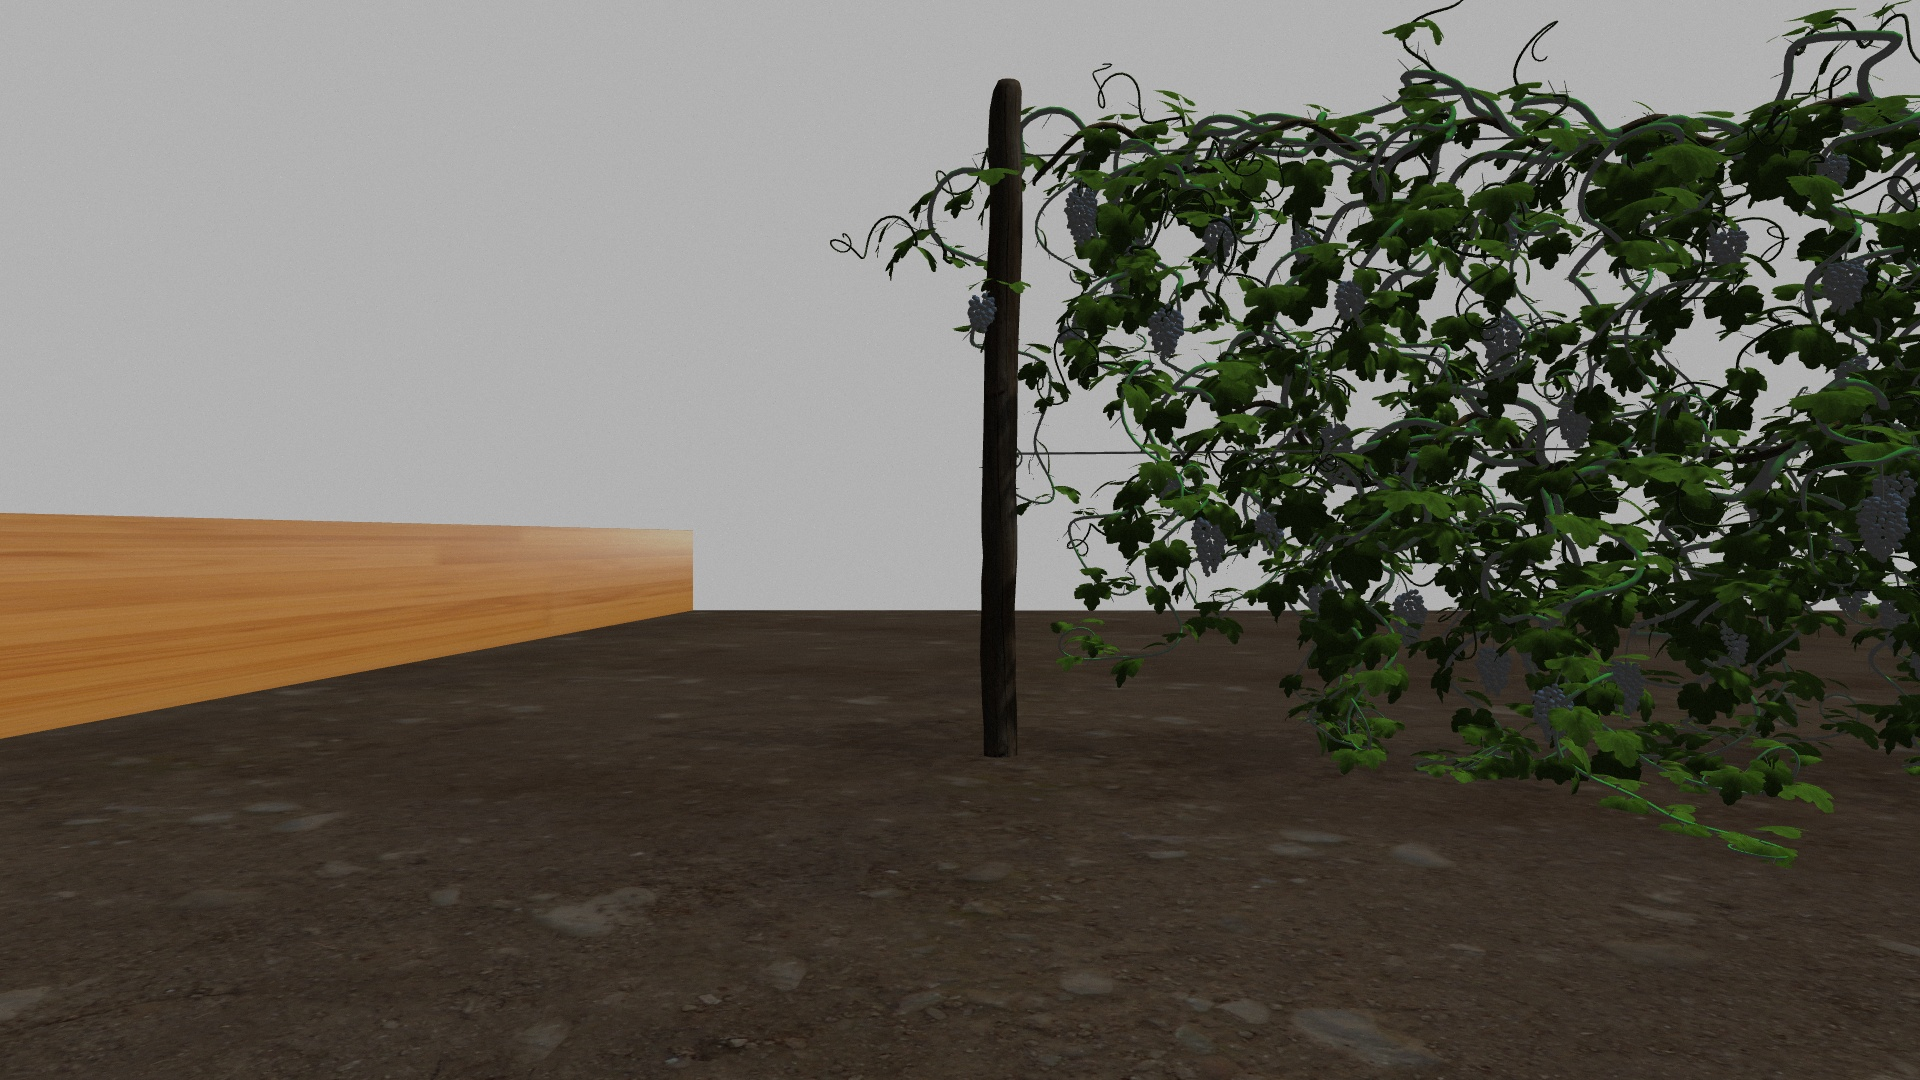grape: (1859, 495, 1907, 562), (1822, 256, 1867, 316), (1532, 684, 1573, 738), (1393, 588, 1429, 647), (1189, 516, 1225, 576), (1481, 316, 1520, 371), (1064, 186, 1098, 243), (1708, 220, 1749, 268), (1611, 659, 1647, 713), (1149, 309, 1185, 360), (1476, 646, 1513, 698), (1557, 396, 1592, 450), (1717, 620, 1749, 666), (1203, 222, 1234, 265), (967, 294, 1000, 334), (1335, 281, 1365, 322), (1255, 512, 1286, 553), (1288, 228, 1320, 261), (1821, 152, 1851, 186)
